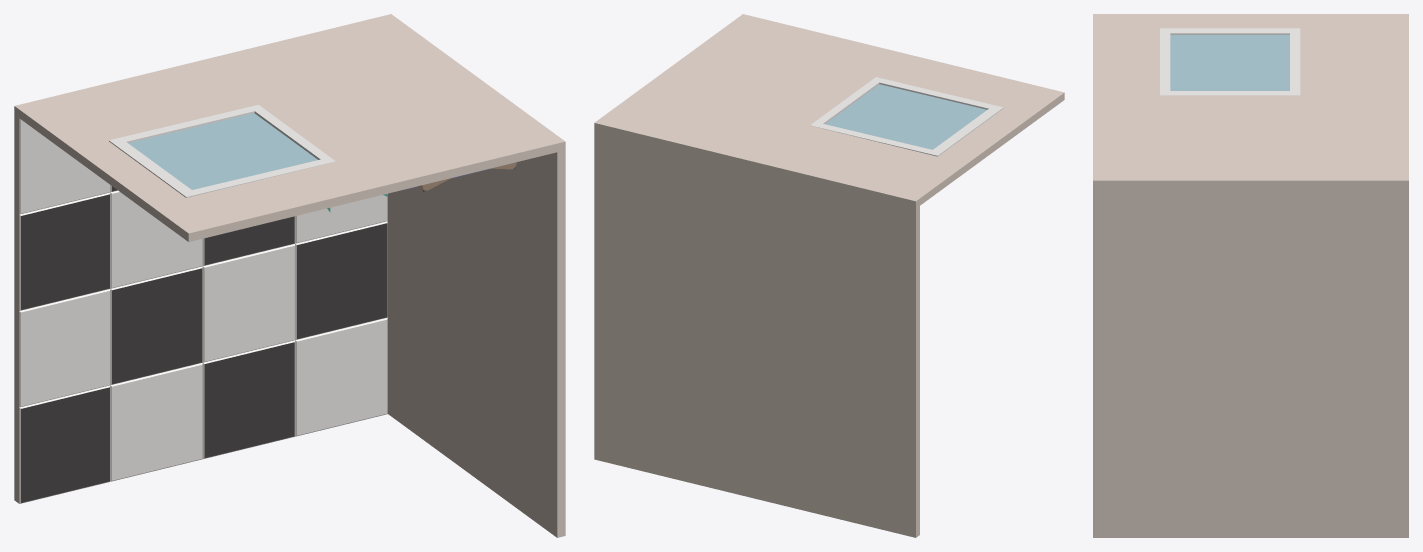
Rendered from Room_1.glb.
The picture shows the model from 3 angles, left to right: view 1: azimuth 30°, elevation 25°; view 2: azimuth 150°, elevation 25°; view 3: azimuth 270°, elevation 25°; orthographic projection. The views are drawn at different scales.
Visible parts, largest first — view 1: Room_1; view 2: Room_1; view 3: Room_1.
Boxes of the visible parts, x1,y1,x2,y2 form: Room_1: (14, 14, 565, 537); Room_1: (594, 14, 1064, 537); Room_1: (1093, 14, 1408, 537).
Bounding box in the file's own units: 10 × 10.03 × 8.01.
1 material, 1 textured.
